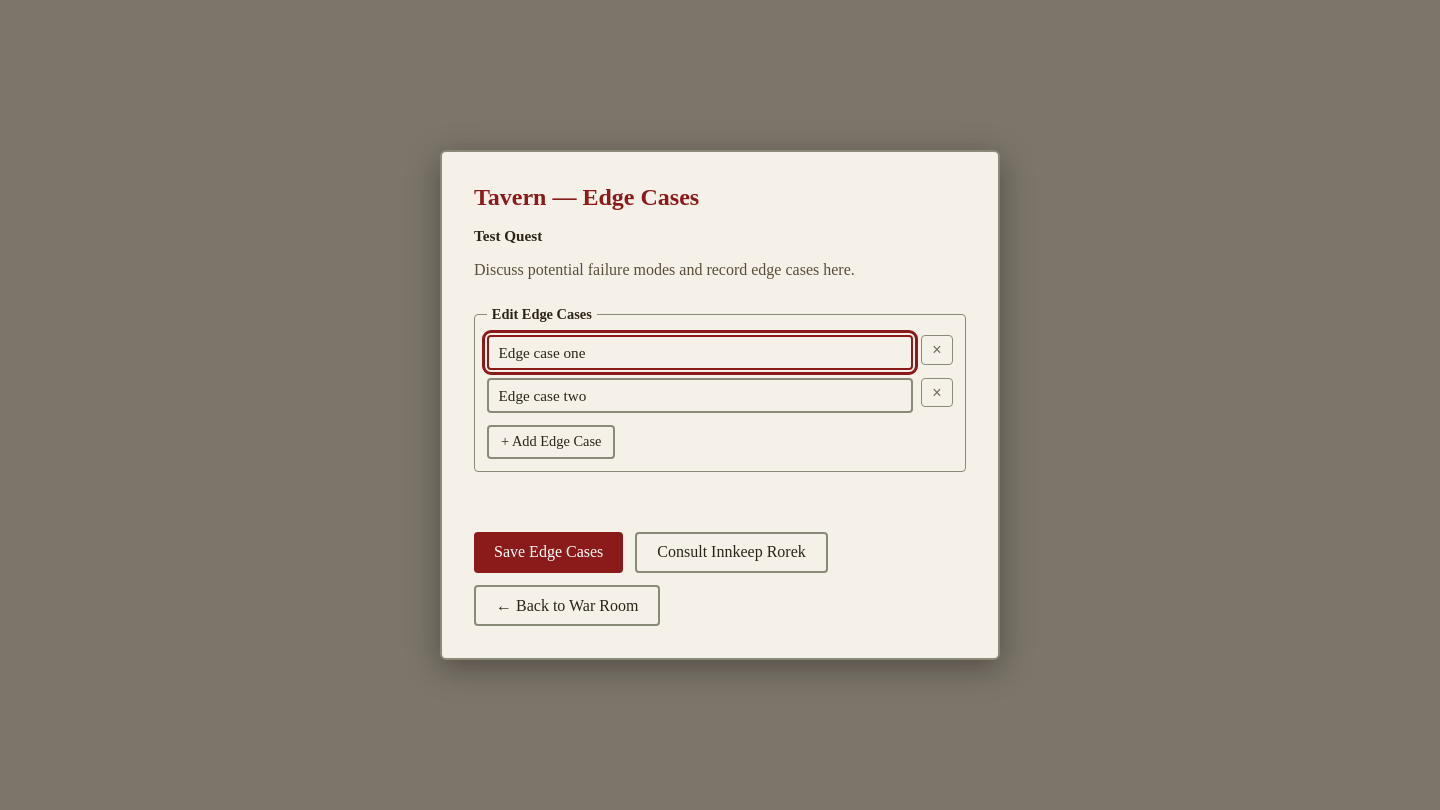
Test case: Tavern › adds a new edge case when "+ Add Edge Case" is clicked
Check: the field named "edge case 1" is shown, box [487,335,913,370]
Click the button "+ Add Edge Case": (551, 442) [487,425,616,459]
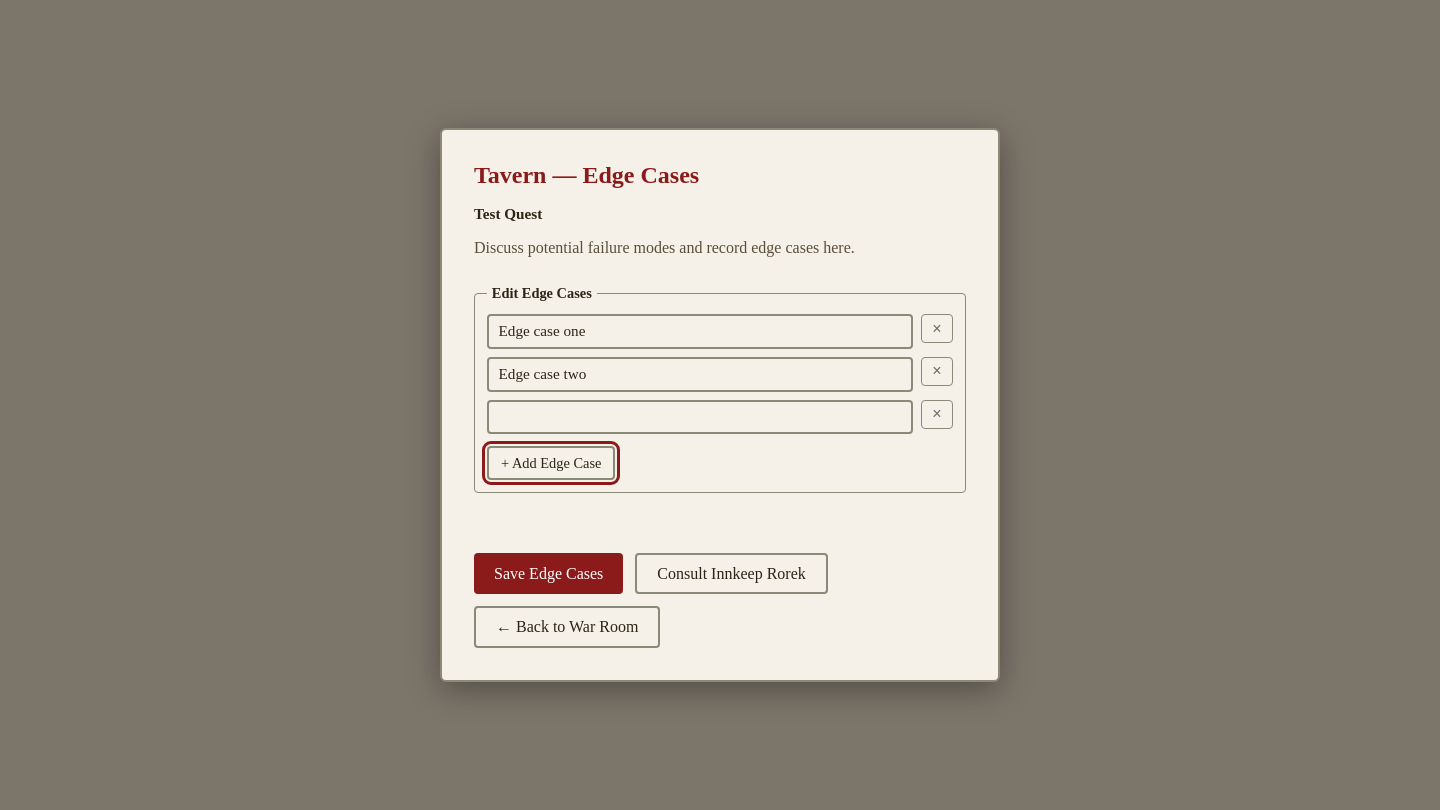
Check: the field named "edge case 3" is shown, box [487,400,913,434]
